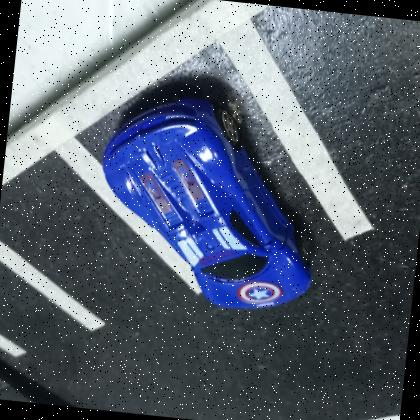Car: (84, 87, 332, 320)
